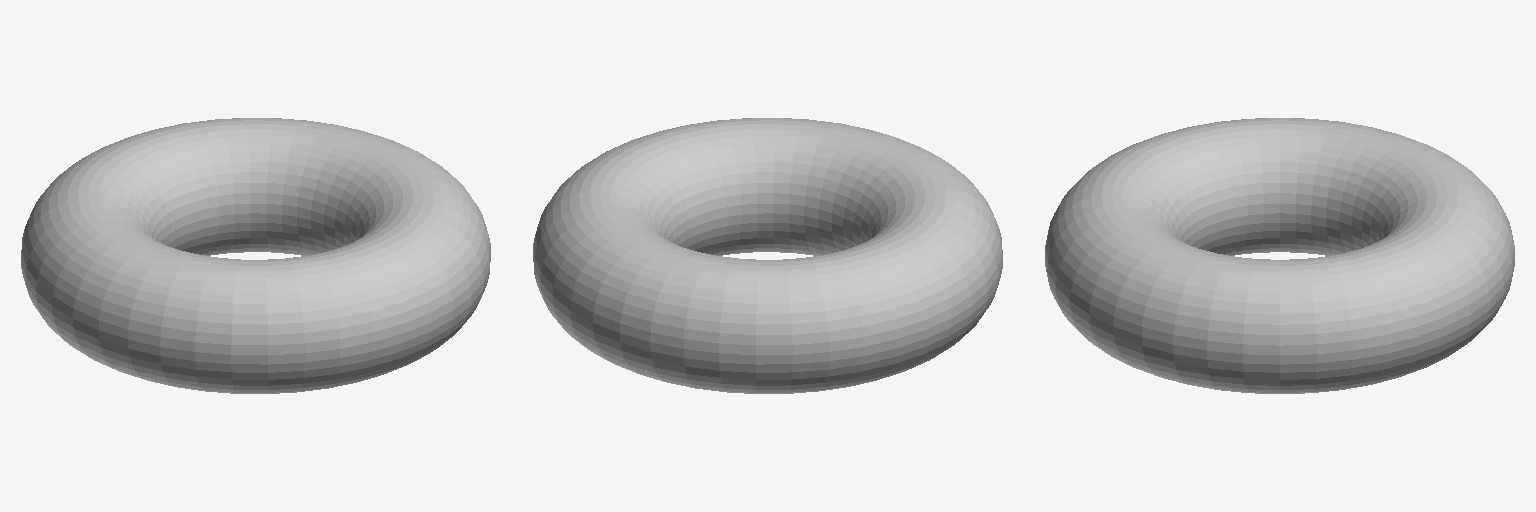
Rendered from Torus-regular.obj.
3 renders of one model, left to right at view 1: azimuth 30°, elevation 25°; view 2: azimuth 150°, elevation 25°; view 3: azimuth 270°, elevation 25°, orthographic.
Parts seen in each view (by area): view 1: 000_Torus; view 2: 000_Torus; view 3: 000_Torus.
Part boxes in pixels (left/top/right/bottom): 000_Torus: left=21, top=118, right=490, bottom=393; 000_Torus: left=533, top=118, right=1002, bottom=393; 000_Torus: left=1045, top=118, right=1514, bottom=393.
Bounding box in the file's own units: 280 × 80 × 280.